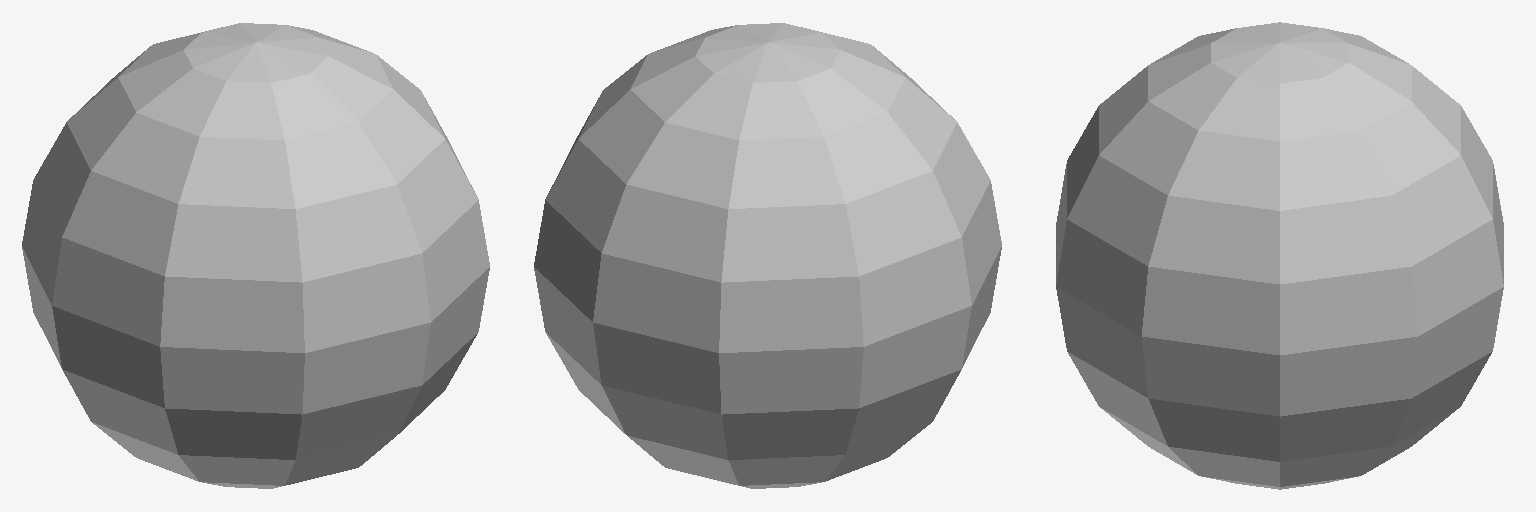
Rendered from spirit.obj.
The picture shows the model from 3 angles: view 1: azimuth 30°, elevation 25°; view 2: azimuth 150°, elevation 25°; view 3: azimuth 270°, elevation 25°; orthographic projection.
Parts seen in each view (by area): view 1: spirit7; view 2: spirit7; view 3: spirit7.
Boxes of the visible parts, x1,y1,x2,y2 form: spirit7: [22, 23, 489, 488]; spirit7: [534, 23, 1001, 488]; spirit7: [1056, 22, 1503, 489].
Bounding box in the file's own units: 1.25 × 1.25 × 1.19.